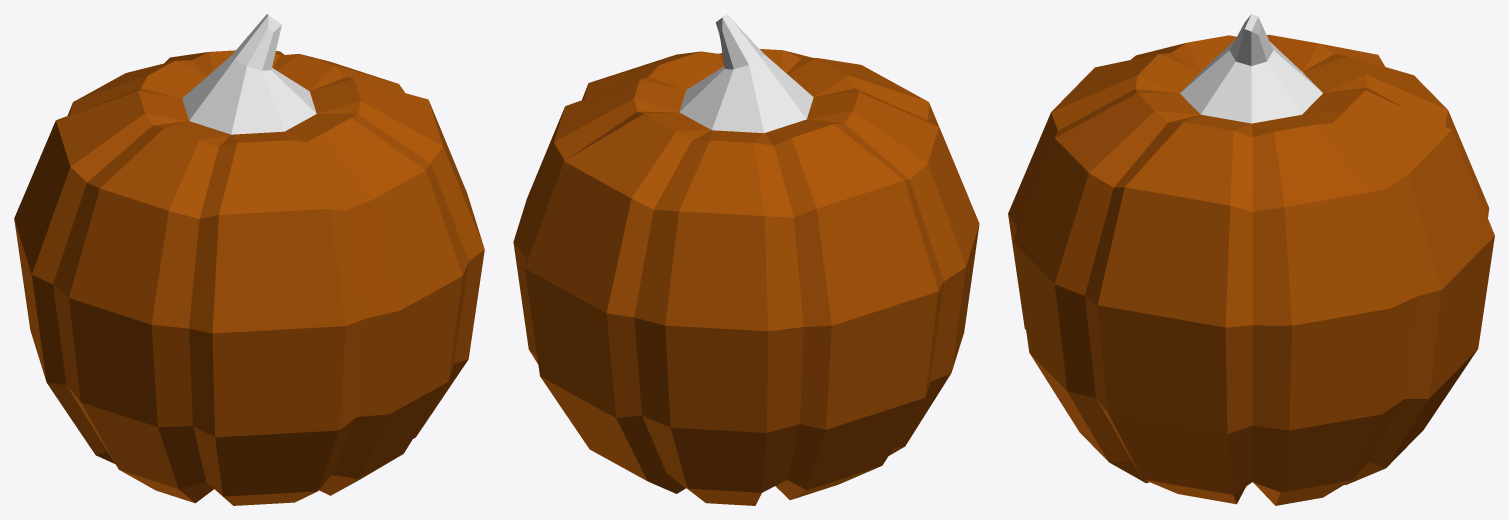
The model's file is pumkin.fbx.
The picture shows the model from 3 angles, left to right: view 1: azimuth 30°, elevation 25°; view 2: azimuth 150°, elevation 25°; view 3: azimuth 270°, elevation 25°; orthographic projection. The views are drawn at different scales.
Visible parts, largest first — view 1: pumkin; view 2: pumkin; view 3: pumkin.
Part boxes in pixels (x1,y1,x2,y2): pumkin: (14, 14, 484, 505); pumkin: (513, 14, 979, 505); pumkin: (1008, 14, 1494, 505).
Size of the model in its own units: 0.6452 by 0.6452 by 0.6575.
